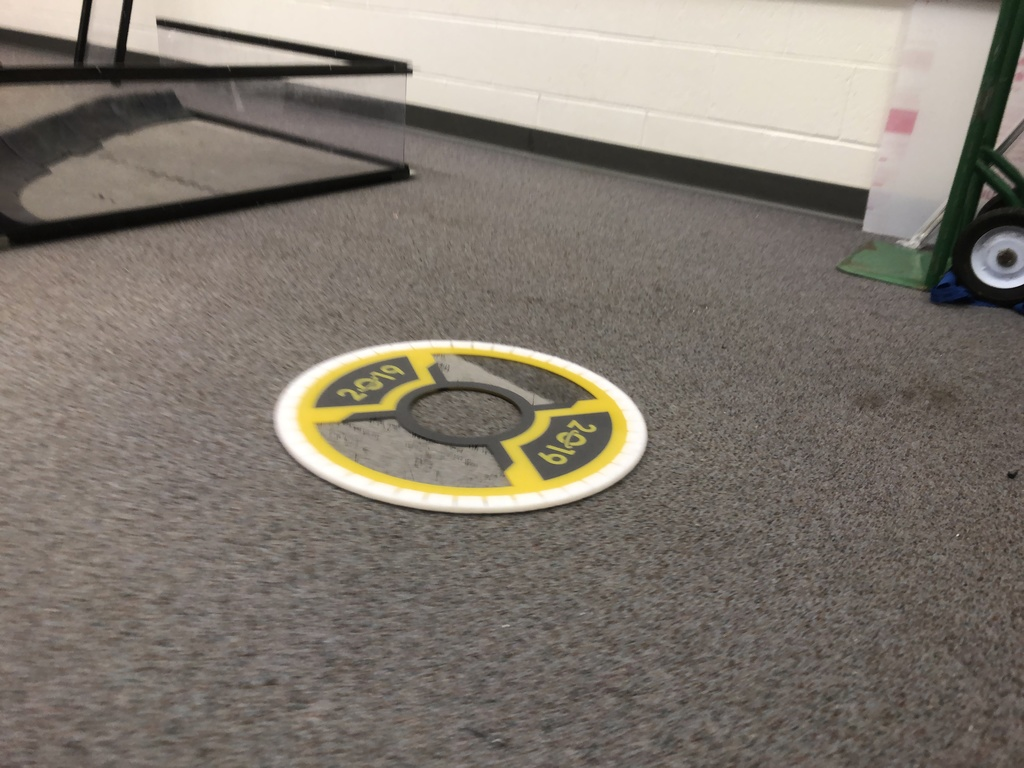hatch_panel: (258, 328, 673, 526)
